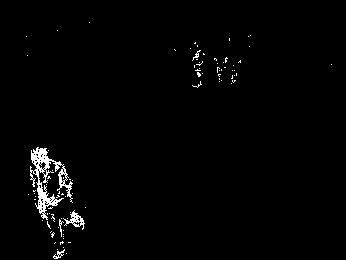person: (31, 148, 84, 258)
